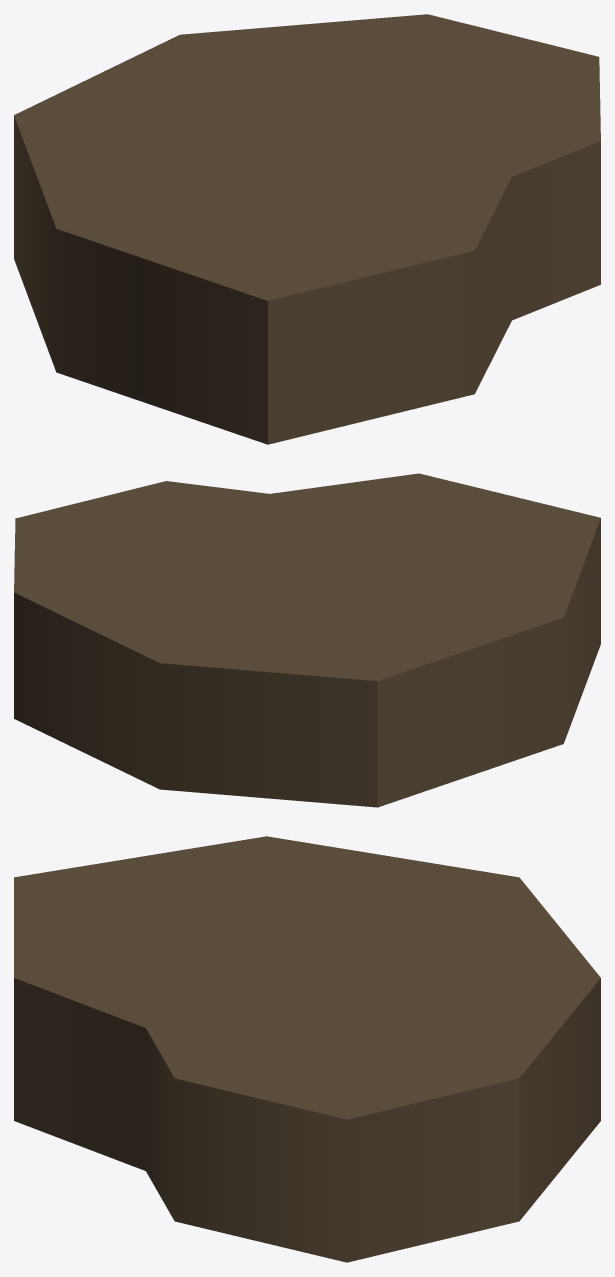
The picture shows the model from 3 angles, top to bottom: view 1: azimuth 30°, elevation 25°; view 2: azimuth 150°, elevation 25°; view 3: azimuth 270°, elevation 25°; orthographic projection. The views are drawn at different scales.
Parts seen in each view (by area): view 1: Box001; view 2: Box001; view 3: Box001.
Boxes of the visible parts, bbox=[...] form: Box001: bbox=[14, 14, 600, 444]; Box001: bbox=[14, 473, 600, 807]; Box001: bbox=[14, 836, 600, 1262].
Bounding box in the file's own units: 15.02 × 3.54 × 13.15.
